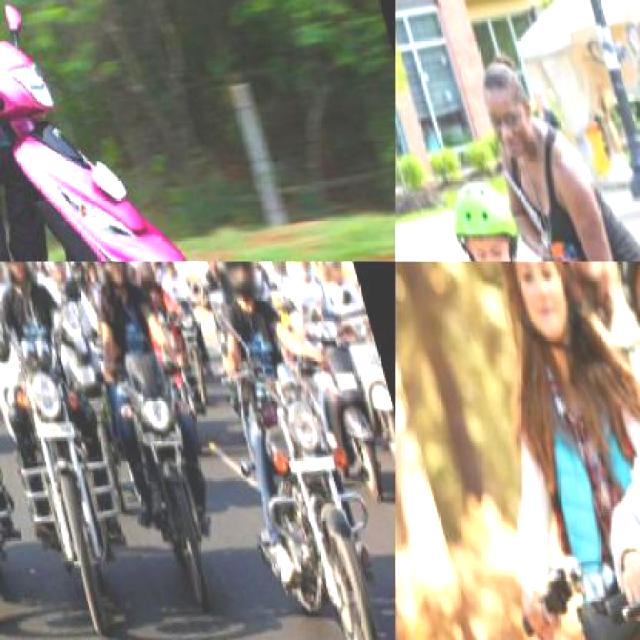With Helmet: (472, 262, 598, 363), (437, 157, 535, 260), (525, 262, 629, 302), (206, 262, 268, 298), (82, 262, 138, 286), (0, 262, 42, 290), (42, 262, 72, 284), (132, 262, 160, 284), (317, 262, 355, 278), (64, 262, 90, 284), (152, 262, 183, 278), (197, 262, 225, 270), (266, 262, 291, 270)
Without Helmet: (632, 0, 638, 45)
